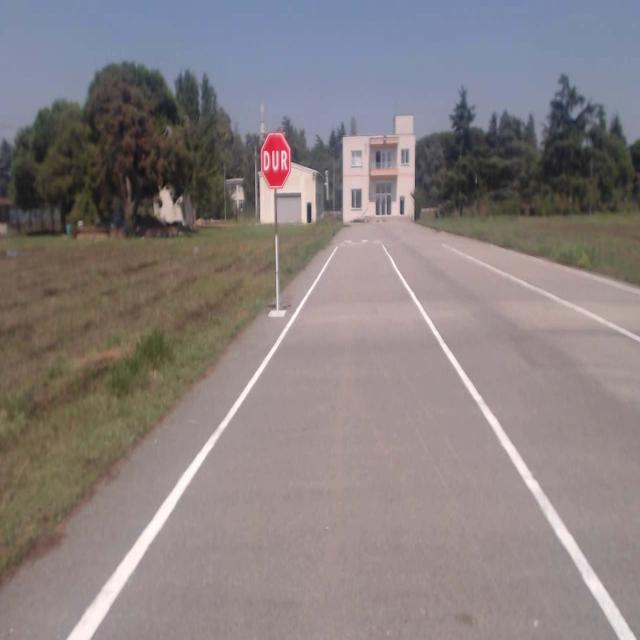dur: (259, 132, 291, 186)
